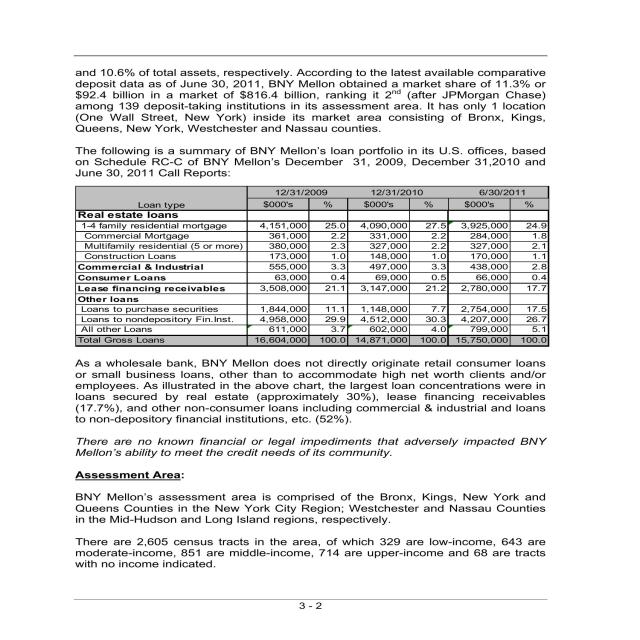table: (77, 188, 547, 343)
